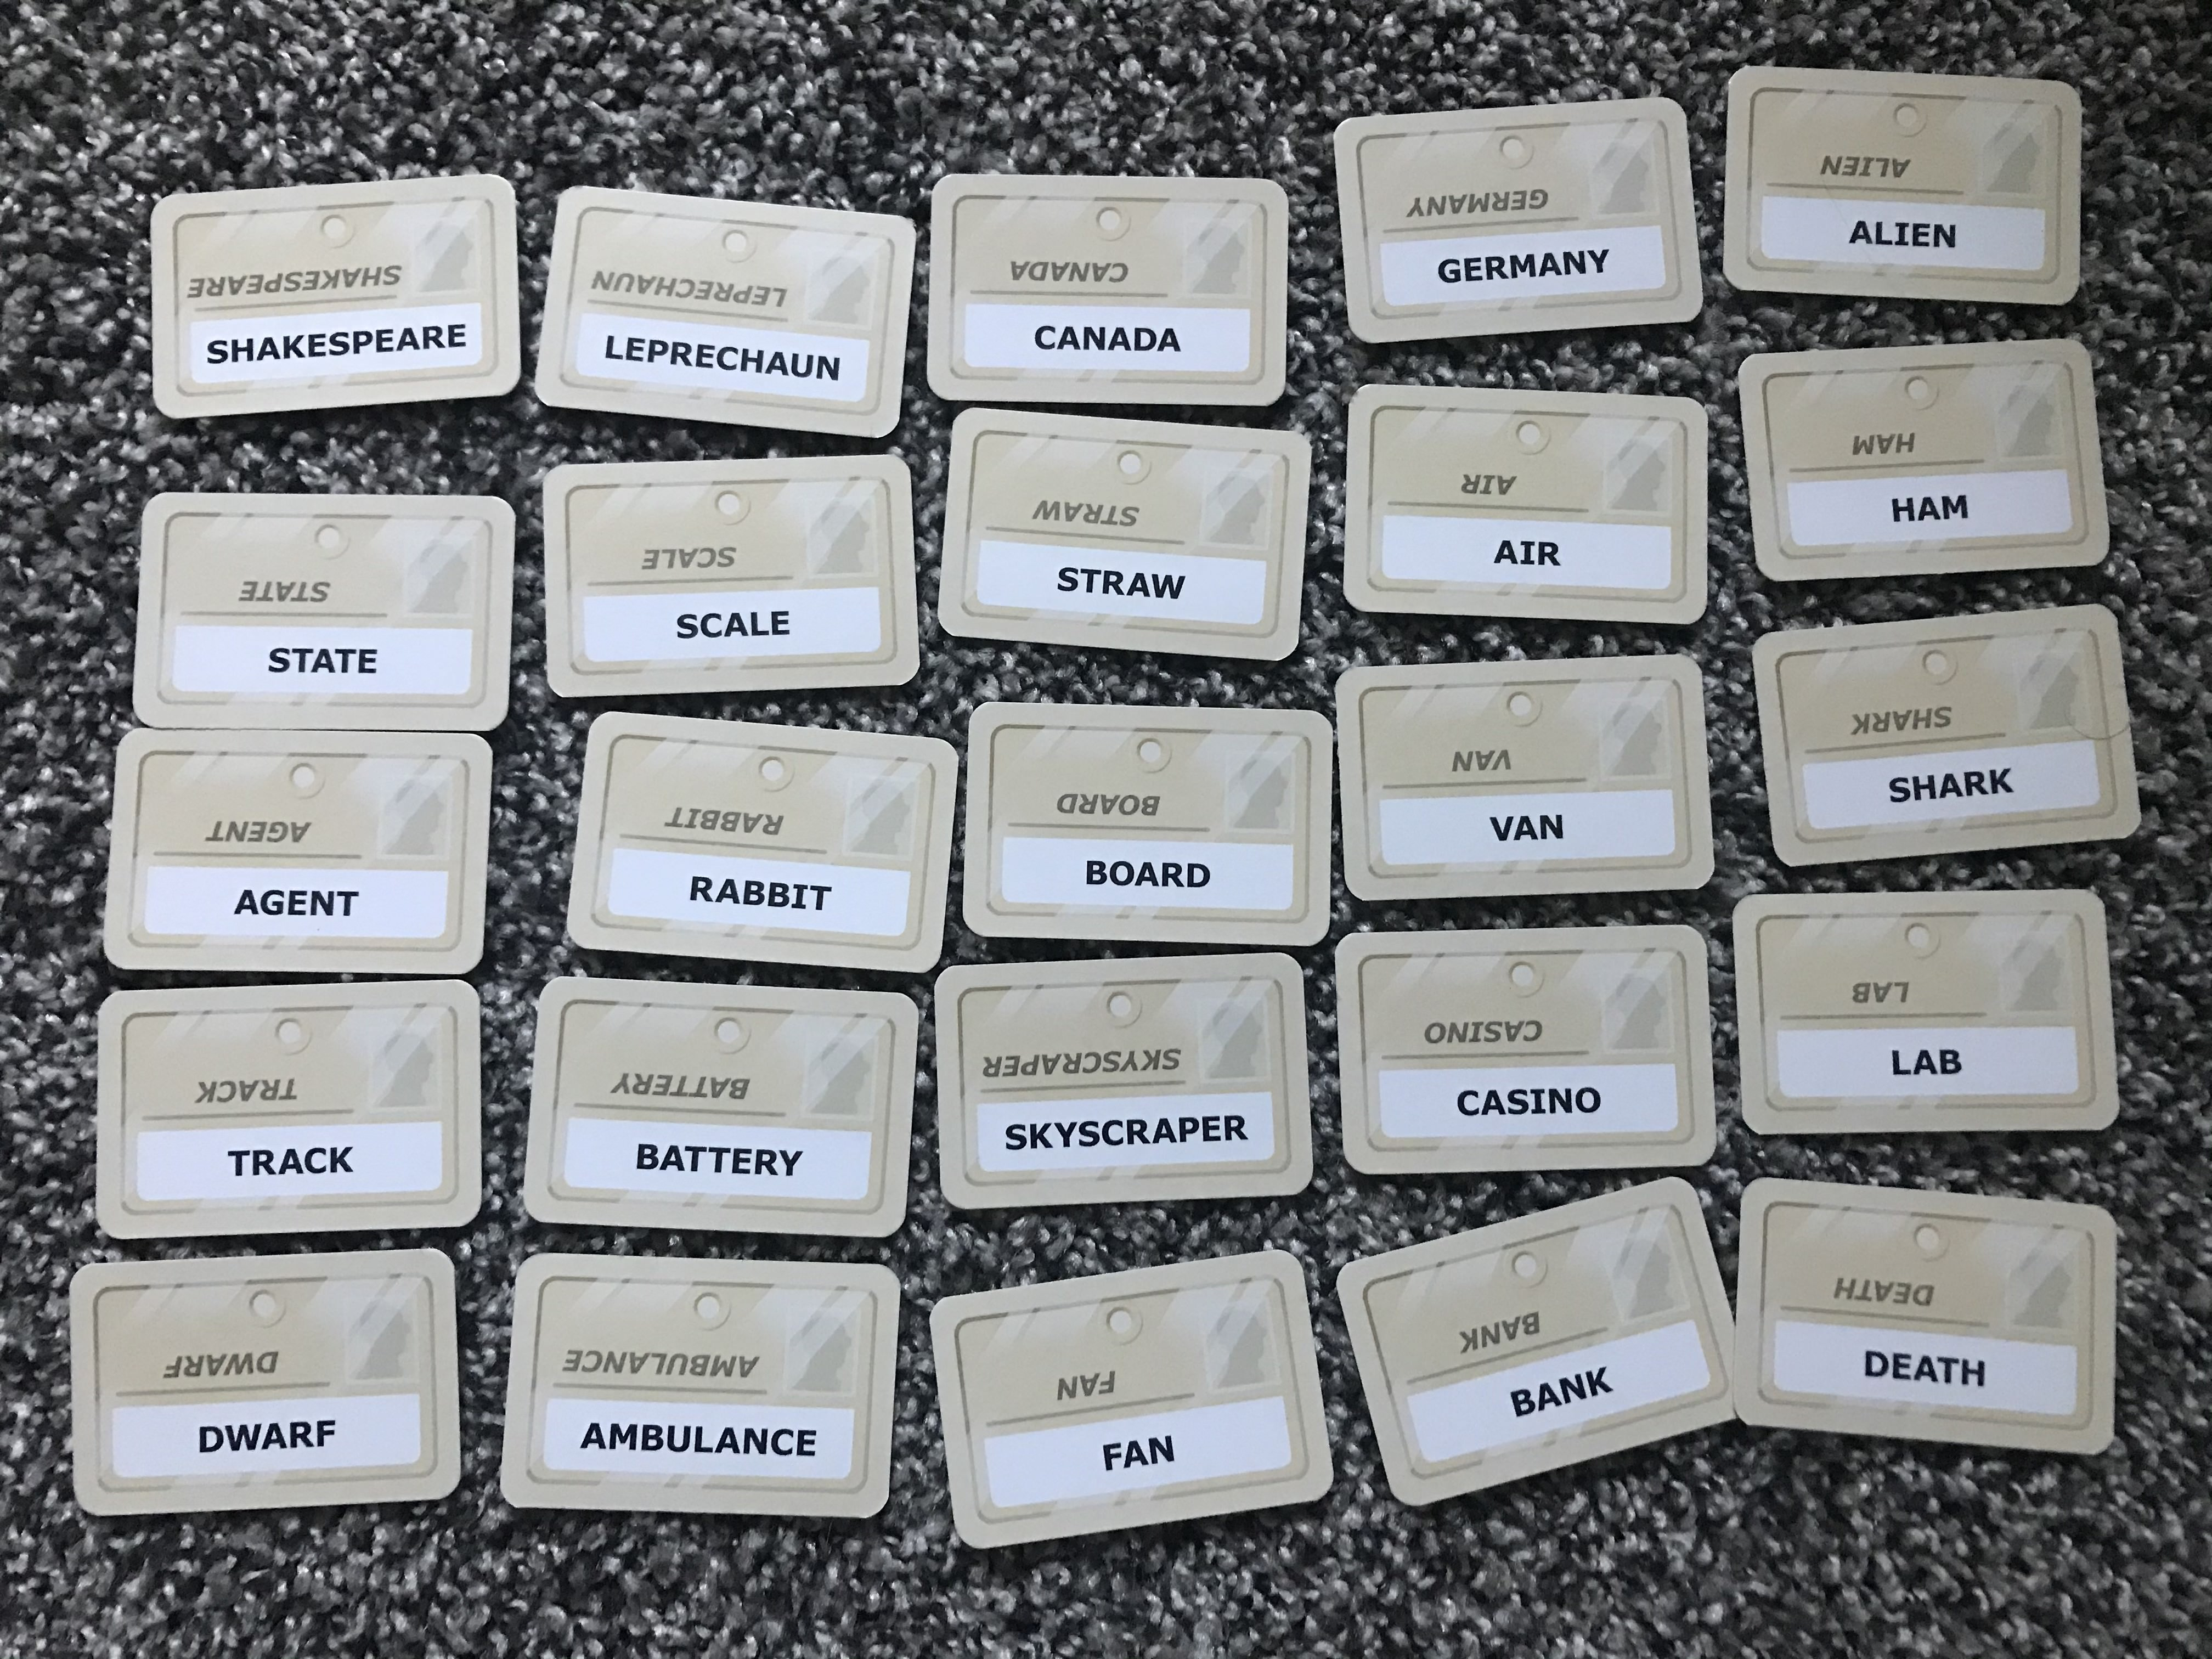A: (1533, 1377, 1564, 1419), (1150, 1110, 1177, 1154), (232, 884, 261, 924), (260, 1420, 291, 1457), (714, 1420, 740, 1464), (1937, 767, 1966, 805), (1120, 1434, 1150, 1473), (1512, 810, 1540, 849), (1480, 1087, 1508, 1126), (580, 1419, 608, 1457), (1134, 856, 1160, 896), (1912, 1046, 1939, 1086), (1055, 322, 1083, 359), (1108, 324, 1136, 361), (308, 645, 336, 681), (275, 1145, 303, 1182), (765, 345, 789, 385), (1123, 566, 1151, 601), (1493, 535, 1519, 572), (660, 1140, 685, 1178), (1157, 324, 1183, 359), (714, 873, 737, 913), (1914, 491, 1939, 528), (1914, 1352, 1939, 1389), (723, 608, 747, 641), (258, 331, 280, 366), (395, 324, 420, 356), (1848, 216, 1872, 247), (1540, 247, 1562, 281)
